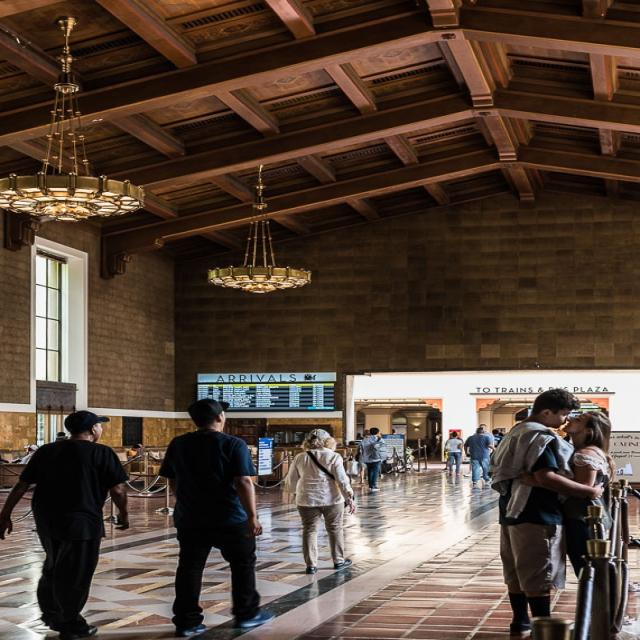body: (0, 407, 132, 639), (154, 396, 279, 639), (488, 386, 608, 638), (514, 408, 618, 583), (279, 426, 360, 576), (355, 426, 388, 492), (463, 426, 498, 485), (391, 428, 443, 454), (351, 432, 372, 485), (443, 430, 465, 475), (441, 433, 455, 473), (16, 443, 40, 465), (470, 422, 496, 438), (489, 428, 506, 445), (127, 443, 142, 456), (55, 430, 68, 440)
